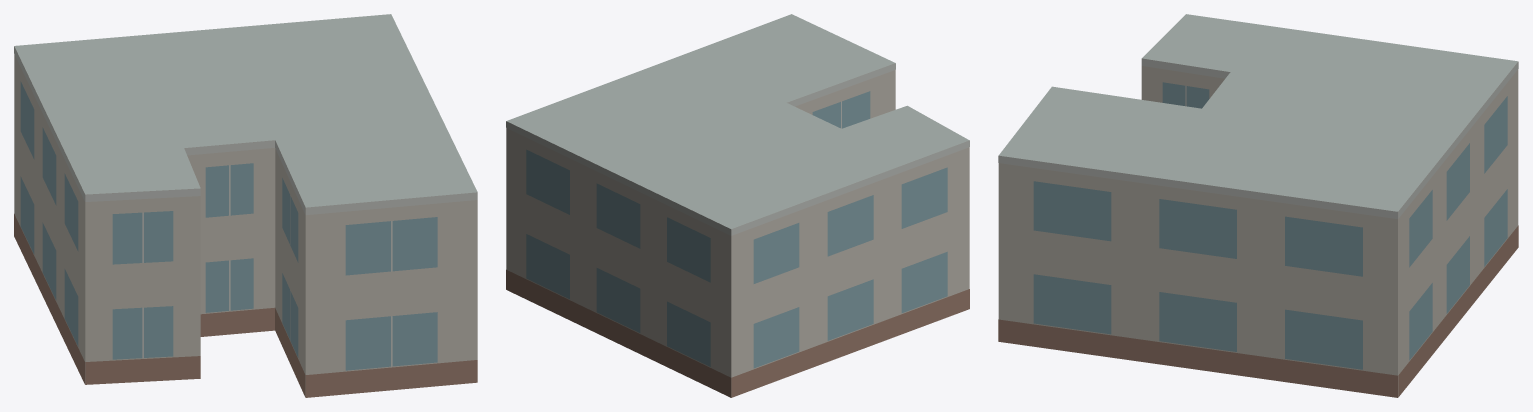
Rendered from survey-upis-32755624.glb.
The picture shows the model from 3 angles, left to right: view 1: azimuth 30°, elevation 25°; view 2: azimuth 150°, elevation 25°; view 3: azimuth 270°, elevation 25°; orthographic projection. The views are drawn at different scales.
Parts seen in each view (by area): view 1: survey-upis-32755624.tmp; view 2: survey-upis-32755624.tmp; view 3: survey-upis-32755624.tmp.
Part boxes in pixels (x1,y1,x2,y2): survey-upis-32755624.tmp: [14, 14, 477, 397]; survey-upis-32755624.tmp: [506, 14, 969, 397]; survey-upis-32755624.tmp: [998, 14, 1518, 397].
Size of the model in its own units: 13.92 by 6.1 by 15.46.
